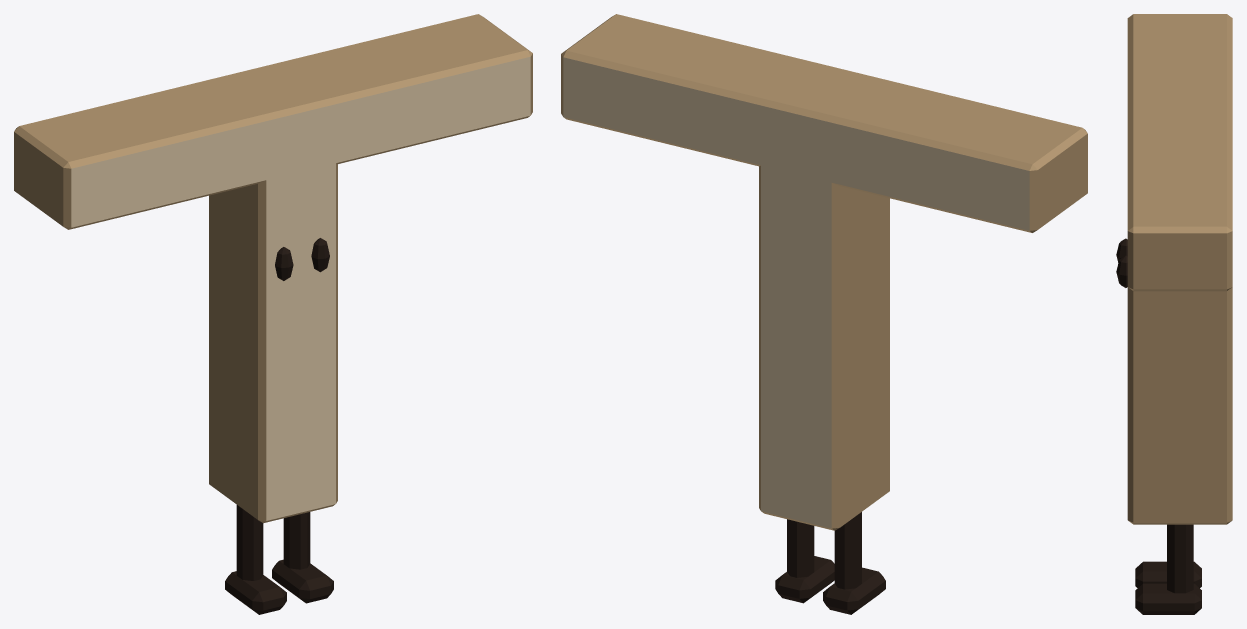
3 views of the same model, side by side, from view 1: azimuth 30°, elevation 25°; view 2: azimuth 150°, elevation 25°; view 3: azimuth 270°, elevation 25° (orthographic). The views are drawn at different scales.
Parts seen in each view (by area): view 1: Glyph, Leg_L, Leg_R; view 2: Glyph, Leg_L, Leg_R; view 3: Glyph, Leg_R, Leg_L, Eye_R, Eye_L.
Part boxes in pixels (bbox=[...]): Glyph: bbox=[14, 14, 532, 523]; Leg_L: bbox=[225, 505, 286, 614]; Leg_R: bbox=[272, 512, 333, 603]; Glyph: bbox=[561, 14, 1087, 530]; Leg_L: bbox=[823, 512, 885, 614]; Leg_R: bbox=[775, 519, 834, 603]; Glyph: bbox=[1127, 14, 1232, 524]; Leg_R: bbox=[1135, 524, 1201, 614]; Leg_L: bbox=[1135, 561, 1201, 588]; Eye_R: bbox=[1116, 255, 1127, 287]; Eye_L: bbox=[1116, 238, 1127, 262].
Bounding box in the file's own units: 0.54 × 0.554 × 0.122.
